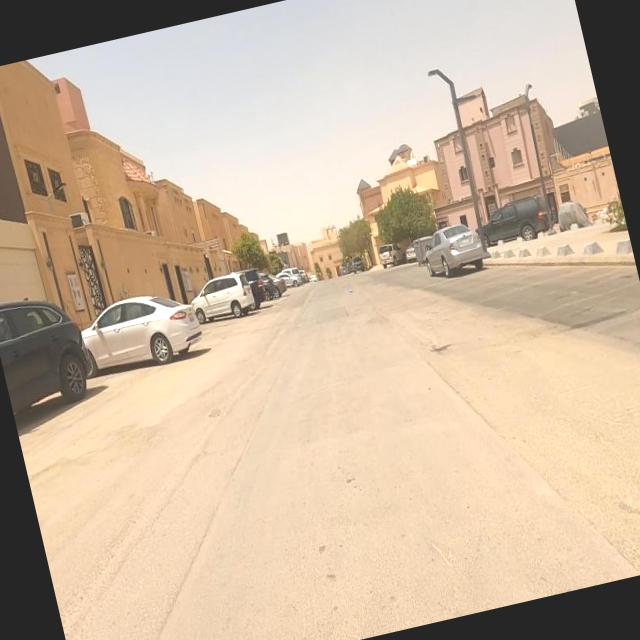debris: (336, 267, 367, 314)
